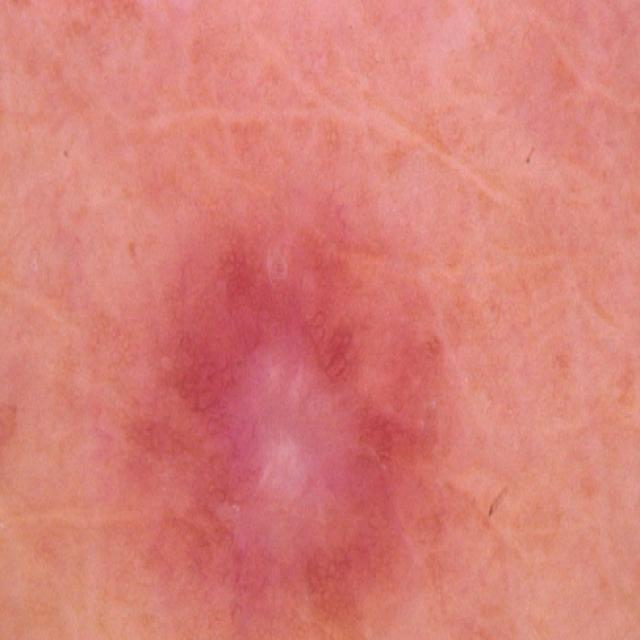Dermatofibroma: (126, 167, 542, 640)
